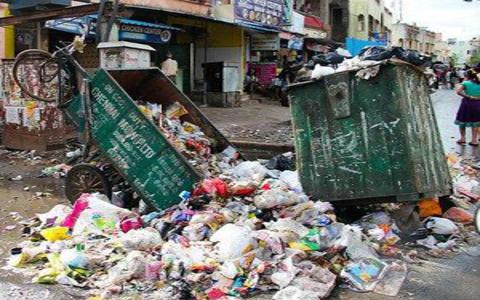overflowing garbage: (243, 59, 434, 279)
